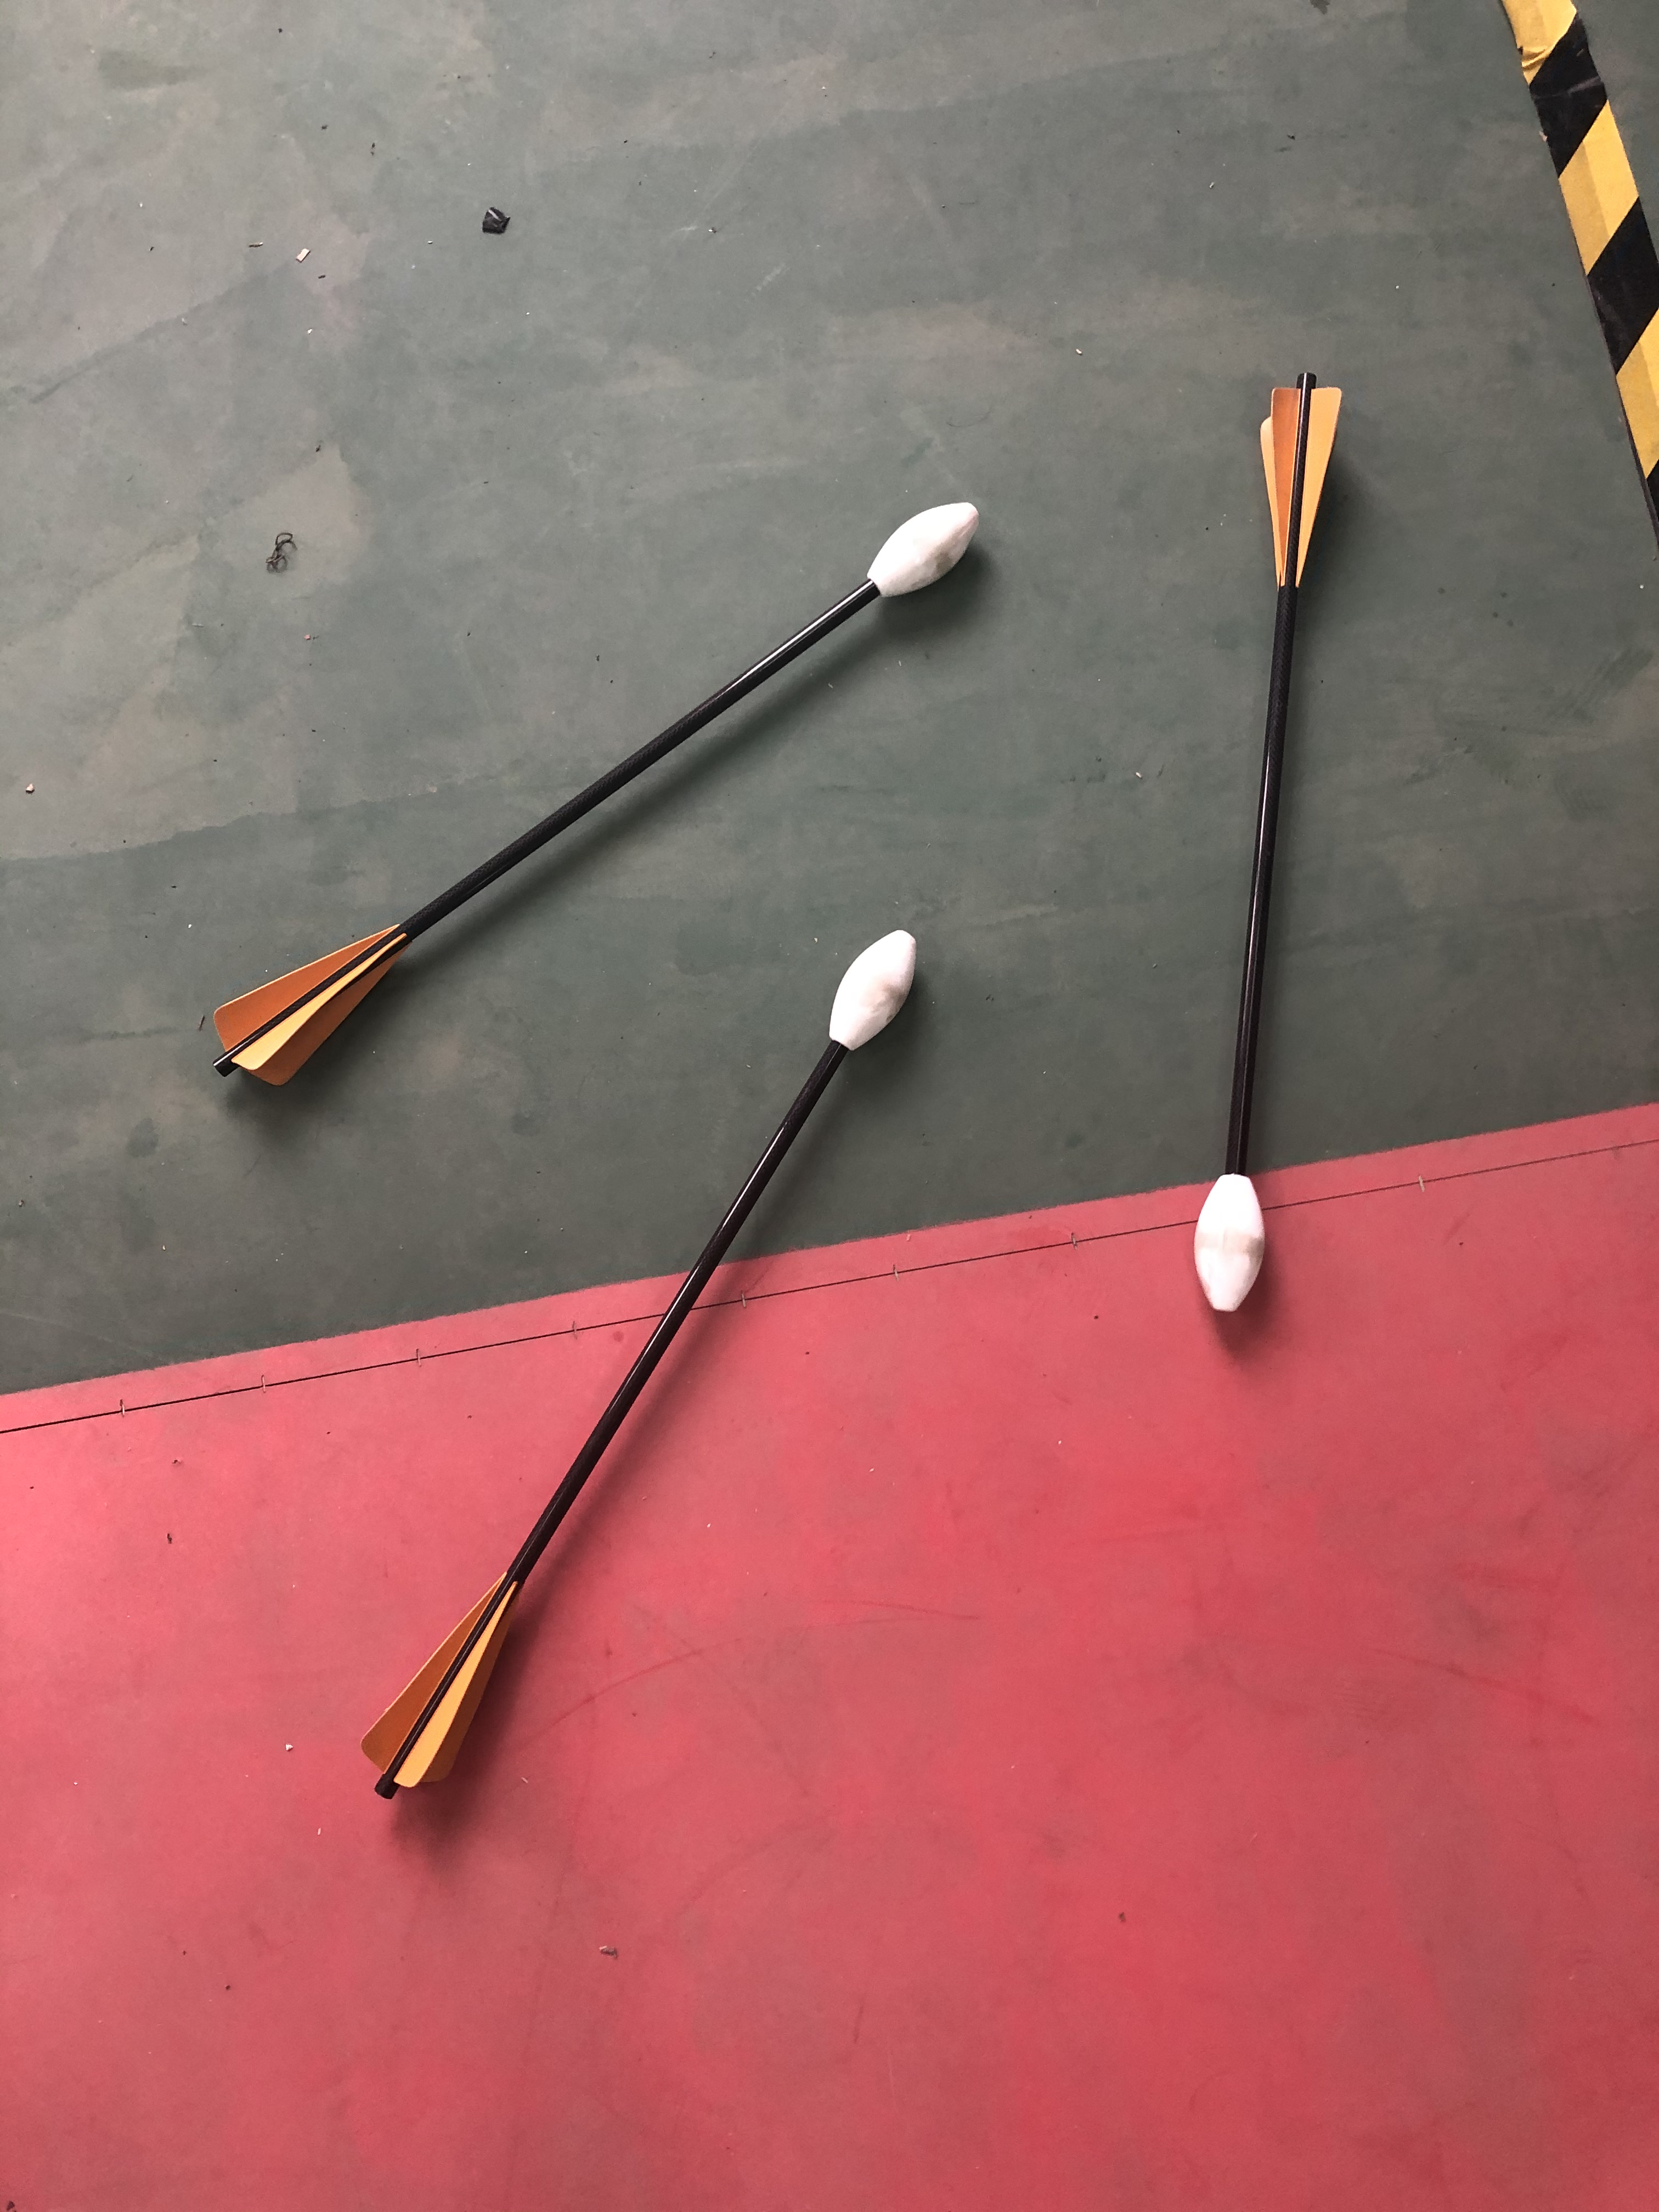arrow: (204, 496, 986, 1120), (359, 941, 911, 1818), (1188, 354, 1347, 1315)
arrowFront: (854, 502, 981, 611), (1195, 1169, 1270, 1317), (831, 935, 913, 1062)
